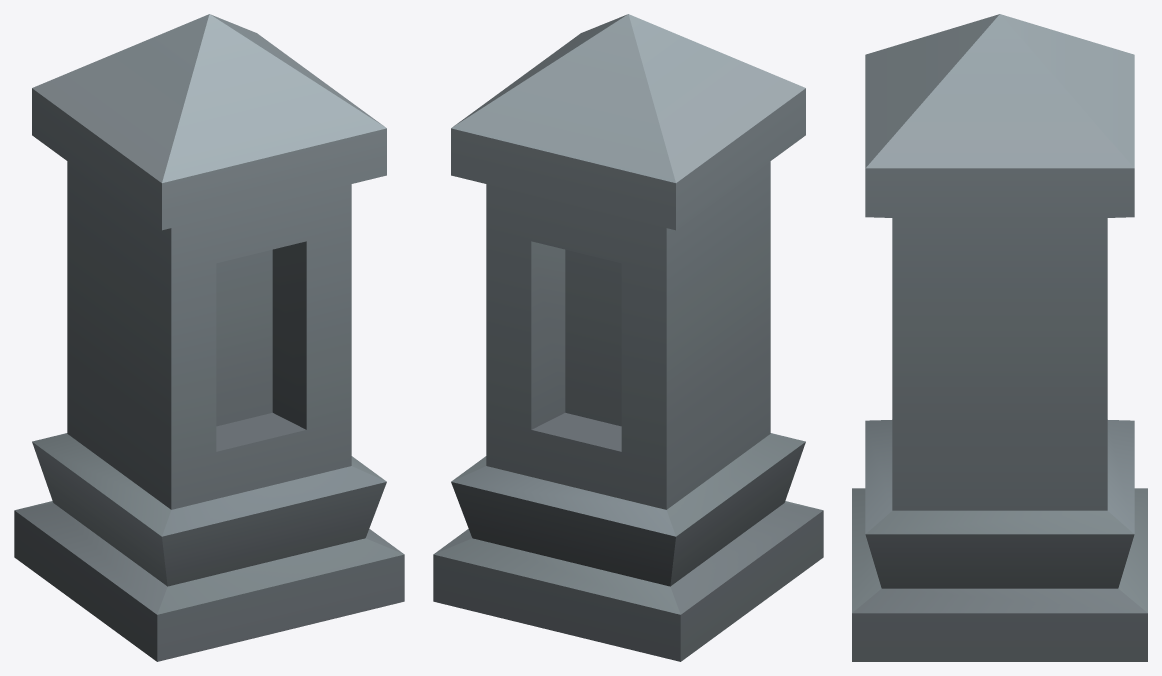
Rendered from d_kaykit_oratoire.glb.
3 views of the same model, side by side, from view 1: azimuth 30°, elevation 25°; view 2: azimuth 150°, elevation 25°; view 3: azimuth 270°, elevation 25° (orthographic). The views are drawn at different scales.
Visible parts, largest first — view 1: d_kaykit_oratoire; view 2: d_kaykit_oratoire; view 3: d_kaykit_oratoire.
Boxes of the visible parts, x1,y1,x2,y2 form: d_kaykit_oratoire: [14, 14, 404, 661]; d_kaykit_oratoire: [433, 14, 823, 661]; d_kaykit_oratoire: [852, 14, 1147, 661].
Size of the model in its own units: 1.1 by 2.4 by 1.1.
1 material, 1 textured.
